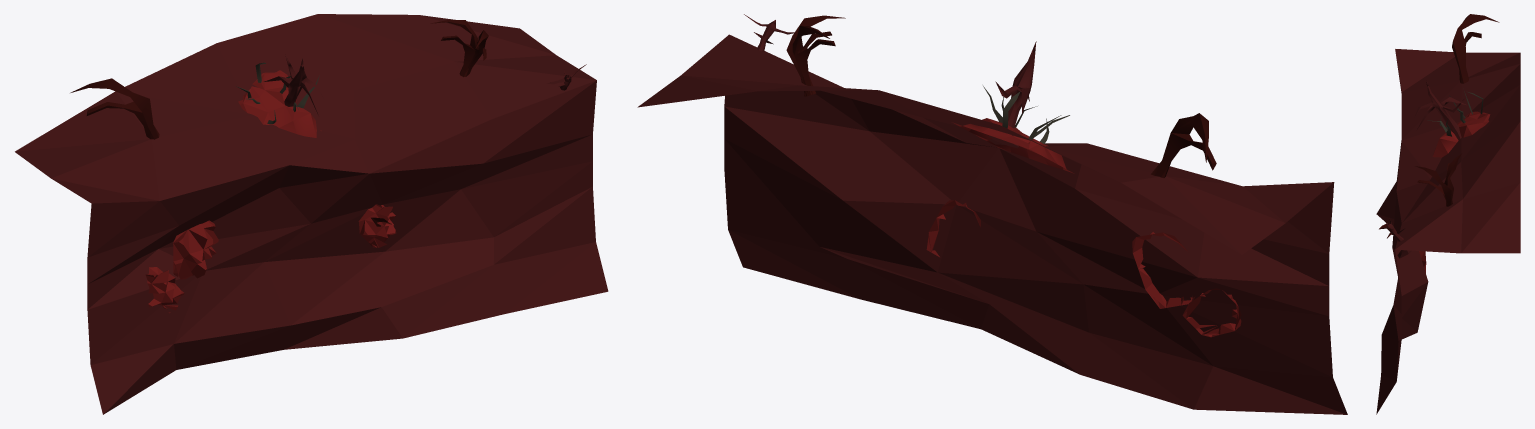
File: Lava_wall_2.FBX
The picture shows the model from 3 angles, left to right: view 1: azimuth 30°, elevation 25°; view 2: azimuth 150°, elevation 25°; view 3: azimuth 270°, elevation 25°; orthographic projection. The views are drawn at different scales.
Parts seen in each view (by area): view 1: Wall_002, LavaLevelWeeds003, Lava_rock_003, LavaLevelTree017, Lava_rock_004, Lava_rock_002, LavaLevelTree012, LavaLevelTree015; view 2: Wall_002, LavaLevelWeeds003, LavaLevelTree017, LavaLevelTree012, Lava_rock_003, LavaLevelTree015, Lava_rock_002, LavaLevelTree014; view 3: Wall_002, LavaLevelWeeds003, LavaLevelTree017, LavaLevelTree012, LavaLevelTree014, LavaLevelTree015, LavaLevelTree5.
Boxes of the visible parts, box(x1,y1,x2,y2) form: Wall_002: box(15, 14, 608, 414); LavaLevelWeeds003: box(236, 62, 321, 137); Lava_rock_003: box(173, 220, 218, 279); LavaLevelTree017: box(70, 78, 159, 139); Lava_rock_004: box(358, 204, 396, 247); Lava_rock_002: box(146, 267, 184, 313); LavaLevelTree012: box(264, 54, 324, 115); LavaLevelTree015: box(430, 19, 479, 77); Wall_002: box(637, 34, 1347, 414); LavaLevelWeeds003: box(952, 86, 1074, 173); LavaLevelTree017: box(1151, 113, 1216, 177); LavaLevelTree012: box(988, 41, 1036, 148); Lava_rock_003: box(1132, 232, 1195, 308); LavaLevelTree015: box(792, 25, 835, 96); Lava_rock_002: box(1182, 288, 1241, 337); LavaLevelTree014: box(786, 15, 845, 96); Wall_002: box(1376, 49, 1520, 414); LavaLevelWeeds003: box(1427, 91, 1490, 157); LavaLevelTree017: box(1452, 14, 1499, 83); LavaLevelTree012: box(1414, 79, 1467, 140); LavaLevelTree014: box(1415, 166, 1451, 206); LavaLevelTree015: box(1444, 153, 1461, 204); LavaLevelTree5: box(1386, 218, 1411, 258).
Bounding box in the file's own units: 4000 × 2109 × 1214.
